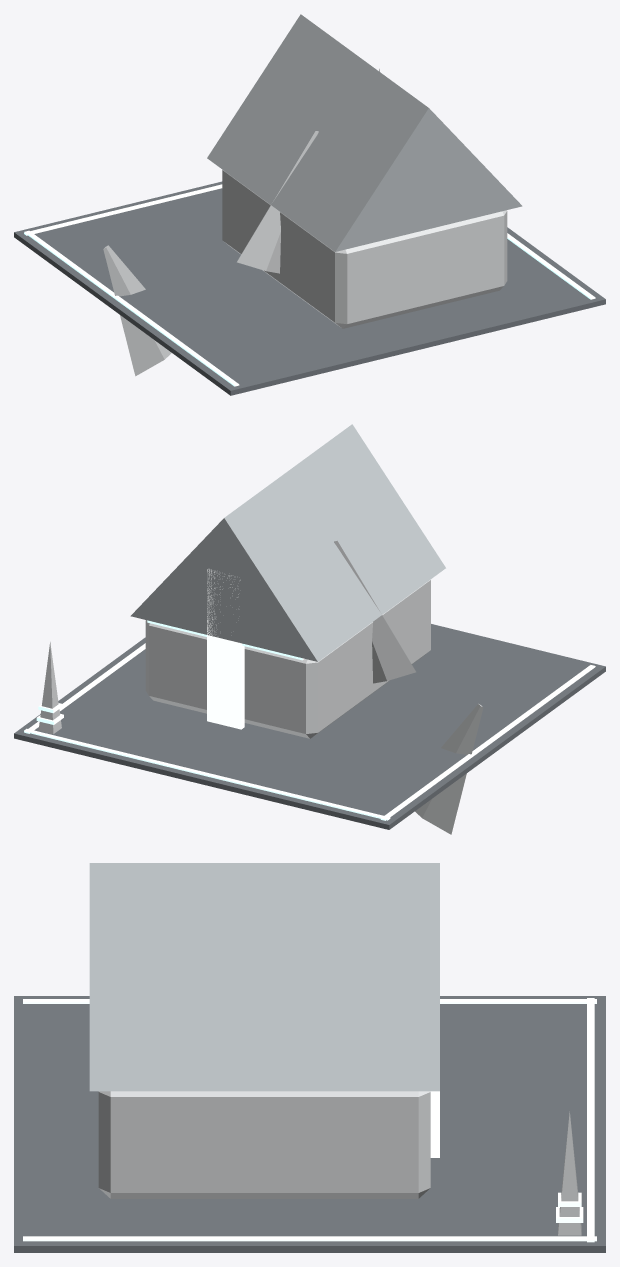
The model's file is zone_low_5_t2.glb.
3 renders of one model, top to bottom at view 1: azimuth 30°, elevation 25°; view 2: azimuth 150°, elevation 25°; view 3: azimuth 270°, elevation 25°, orthographic. The views are drawn at different scales.
Visible parts, largest first — view 1: zone_low_5_t2, detail; view 2: zone_low_5_t2, detail; view 3: zone_low_5_t2, detail.
Part boxes in pixels (x1=…): zone_low_5_t2: x1=14, y1=14, x2=605, y2=395; detail: x1=24, y1=69, x2=595, y2=386; zone_low_5_t2: x1=14, y1=424, x2=605, y2=834; detail: x1=24, y1=620, x2=595, y2=820; zone_low_5_t2: x1=14, y1=863, x2=605, y2=1252; detail: x1=23, y1=998, x2=596, y2=1242.
Size of the model in its own units: 19.73 by 14.56 by 19.6.
